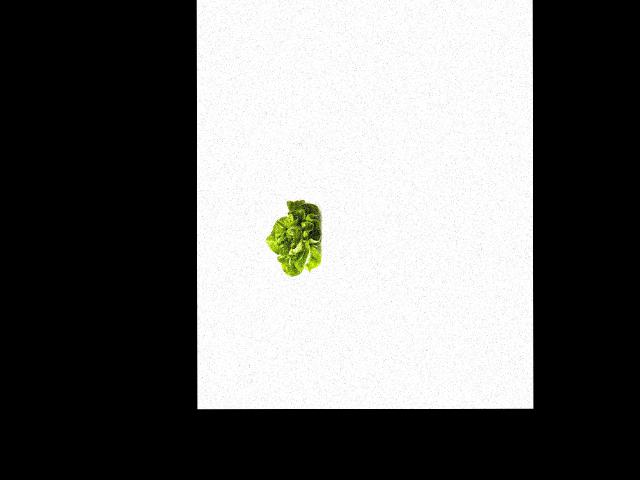lettuce: (266, 198, 322, 279)
